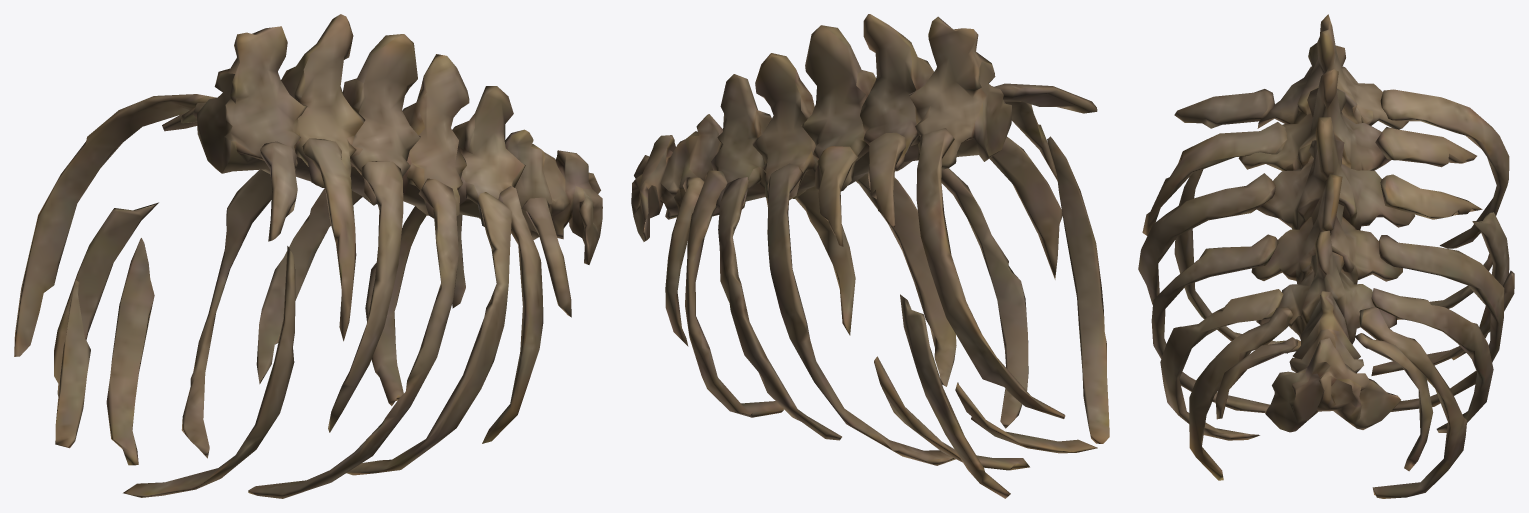
File: SM_WhaleBone_06_d238cb.glb
3 renders of one model, left to right at view 1: azimuth 30°, elevation 25°; view 2: azimuth 150°, elevation 25°; view 3: azimuth 270°, elevation 25°, orthographic. The views are drawn at different scales.
Bounding box in the file's own units: 19.7 × 15.89 × 13.37.
Materials: 1 (1 with a texture image).
